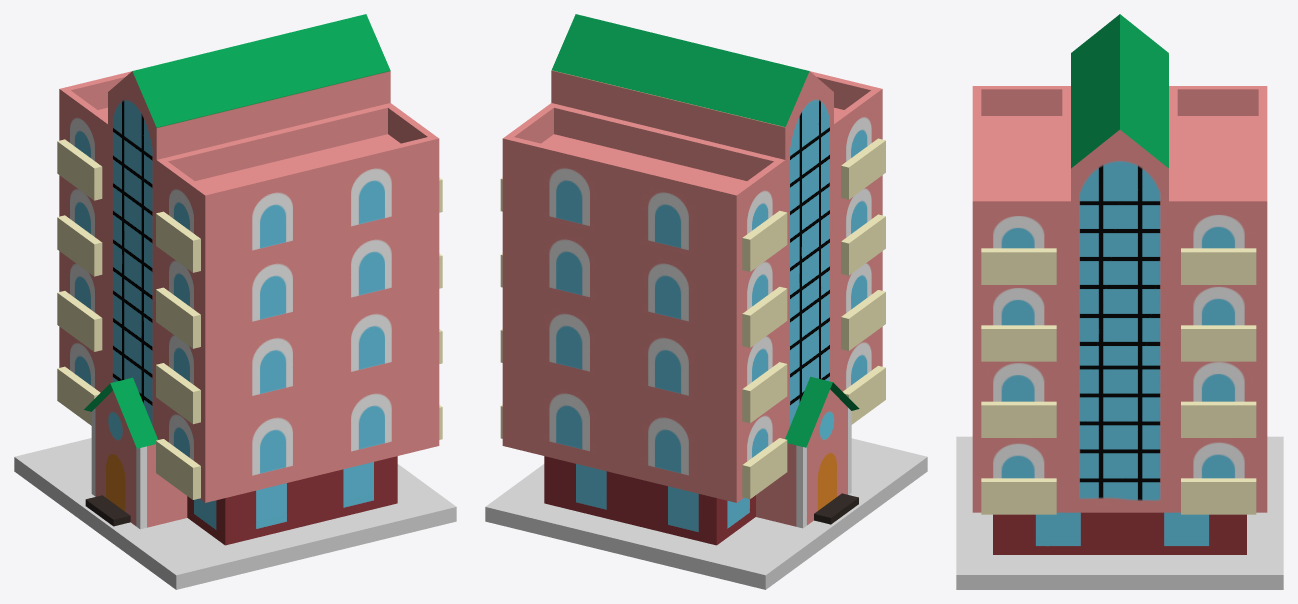
The model's file is High_Tower_2.FBX.
The picture shows the model from 3 angles, left to right: view 1: azimuth 30°, elevation 25°; view 2: azimuth 150°, elevation 25°; view 3: azimuth 270°, elevation 25°; orthographic projection.
Parts seen in each view (by area): view 1: Box025, Box001; view 2: Box025, Box001; view 3: Box025, Box001.
Part boxes in pixels (x1=…): Box025: x1=57, y1=14, x2=442, y2=545; Box001: x1=14, y1=438, x2=456, y2=589; Box025: x1=500, y1=14, x2=885, y2=545; Box001: x1=485, y1=438, x2=927, y2=589; Box025: x1=972, y1=14, x2=1267, y2=554; Box001: x1=956, y1=436, x2=1283, y2=589.
Size of the model in its own units: 1 by 1.54 by 1.
Materials: 5 (4 with a texture image).
